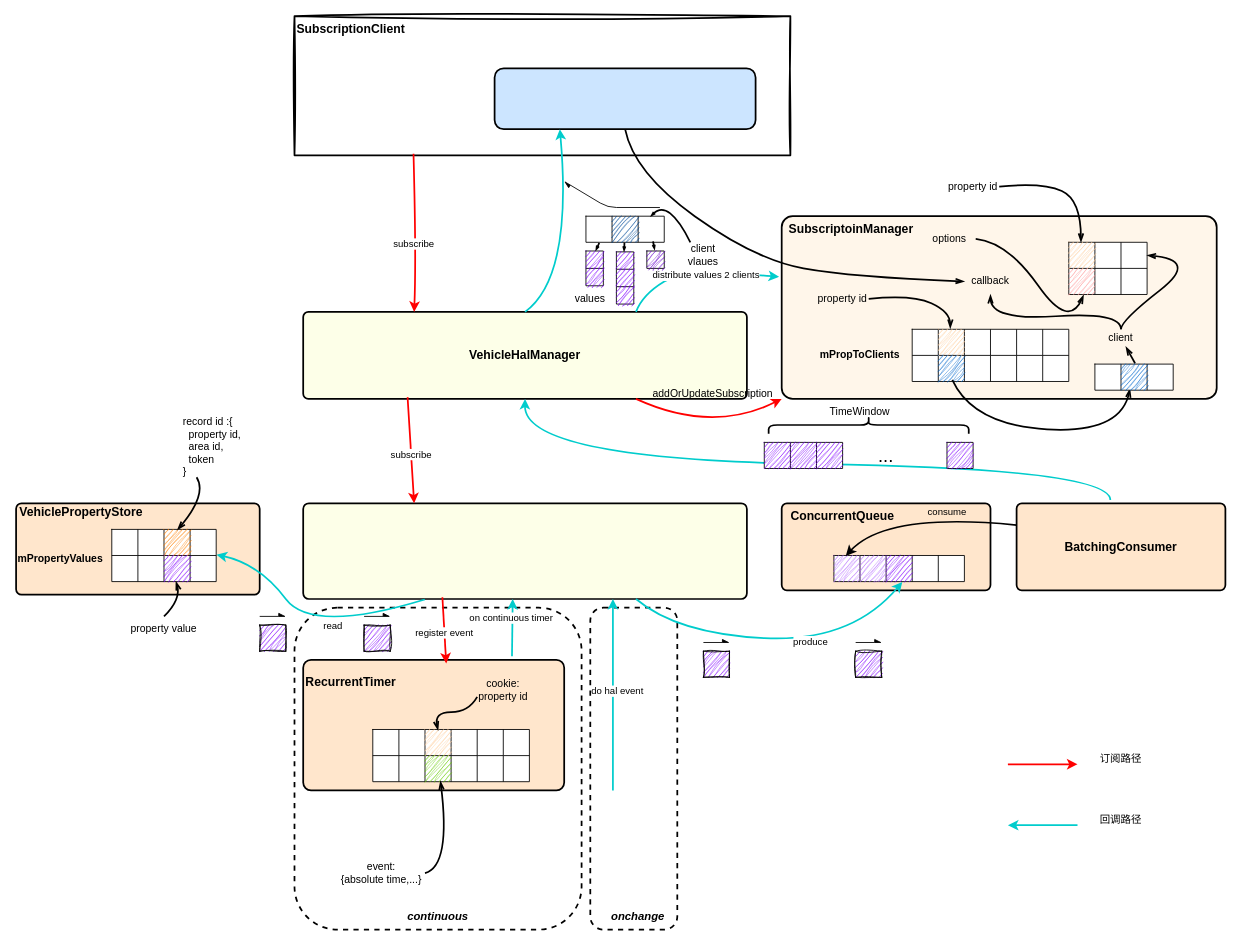
The diagram is 1241 pixels wide and 945 high, and some of its shapes have lost their labels. The shapes that lost their labels are listed below. From the top down, each one's box as (x1, y1, x2, y2) in pixels, then its label:
(493, 67, 756, 130): IVehicleCallback
(302, 502, 747, 599): VehicleHal
